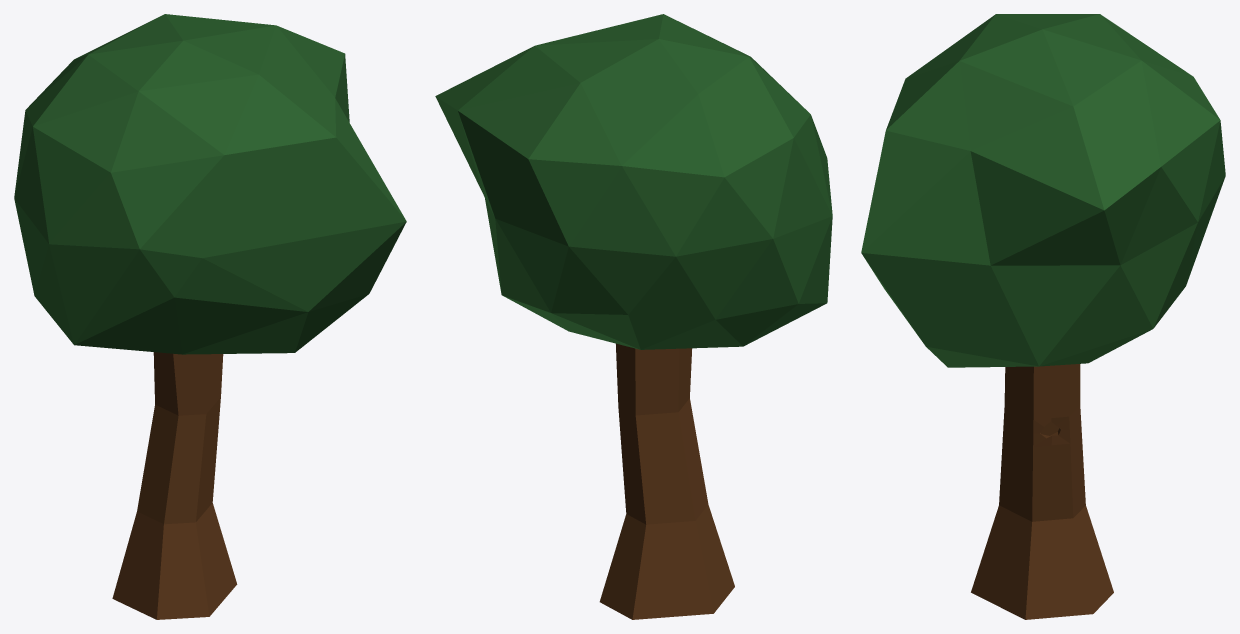
File: Tree1.glb
3 views of the same model, side by side, from view 1: azimuth 30°, elevation 25°; view 2: azimuth 150°, elevation 25°; view 3: azimuth 270°, elevation 25° (orthographic). The views are drawn at different scales.
Visible parts, largest first — view 1: Tree4; view 2: Tree4; view 3: Tree4.
Boxes of the visible parts, x1=… form: Tree4: x1=14, y1=14, x2=406, y2=619; Tree4: x1=435, y1=14, x2=832, y2=619; Tree4: x1=861, y1=14, x2=1225, y2=619.
Bounding box in the file's own units: 2.9 × 4.4 × 2.56.
